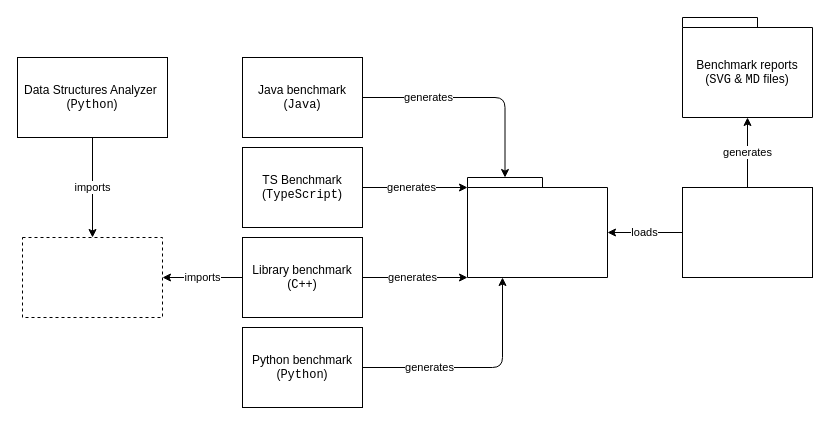
The diagram is 830 pixels wide and 425 high, and some of its shapes have lost their labels. Here are the shapes that lost their labels. From the top down, the centre of each, then its label:
the point at 537,227: Benchmarks results ( CSV files)
the point at 747,232: Benchmarks analyzer ( Python )
the point at 92,277: Data Structures Library ( C++ )
